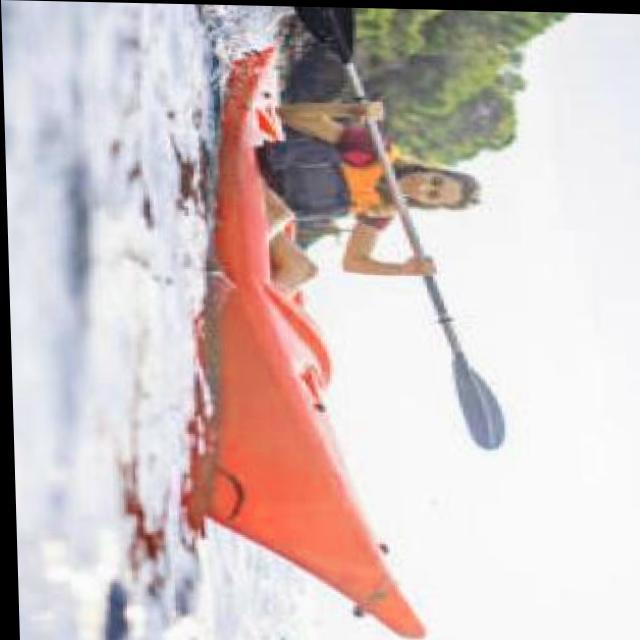kayak: (196, 48, 423, 638)
